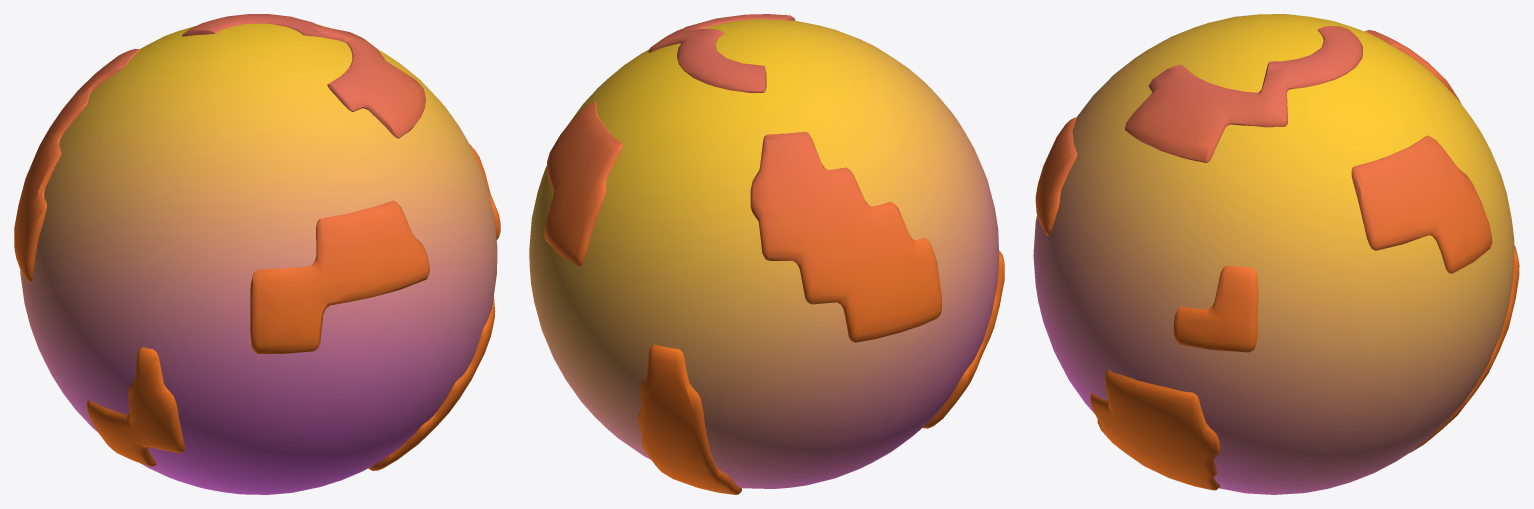
File: Planet_V11.fbx
3 renders of one model, left to right at view 1: azimuth 30°, elevation 25°; view 2: azimuth 150°, elevation 25°; view 3: azimuth 270°, elevation 25°, orthographic. The views are drawn at different scales.
Parts seen in each view (by area): view 1: Planet_V11; view 2: Planet_V11; view 3: Planet_V11.
Part boxes in pixels (box(x1,y1,x2,y2)): Planet_V11: box(14, 14, 500, 494); Planet_V11: box(529, 14, 1004, 494); Planet_V11: box(1033, 14, 1519, 494).
Bounding box in the file's own units: 1436 × 1433 × 1440.
